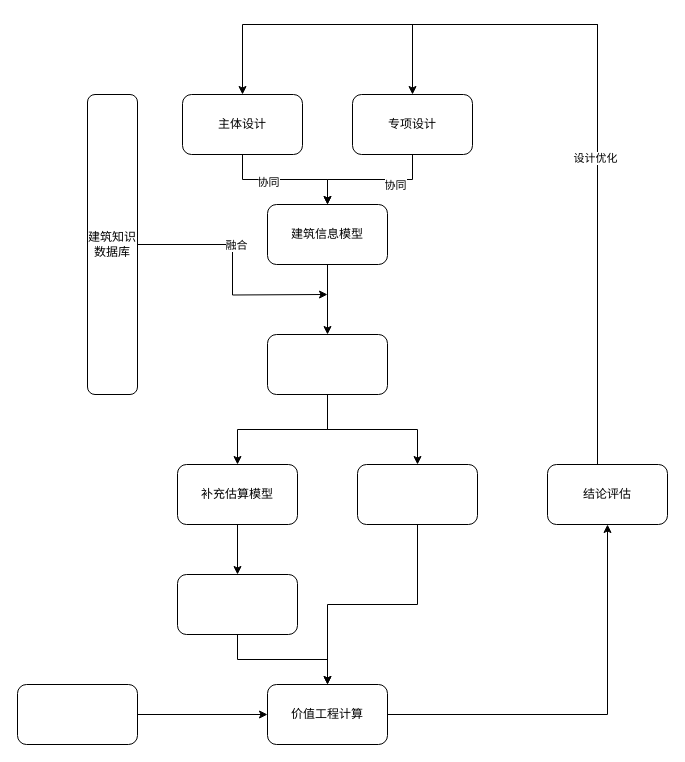
The diagram is 685 pixels wide and 762 high, and some of its shapes have lost their labels. Here are the shapes that lost their labels. From the top down, the box of each, then its label:
(266, 334, 388, 394): 基于多表分类后的信息模型
(356, 464, 478, 524): 建筑面积计算
(176, 574, 298, 634): 工程造价计算
(16, 684, 138, 744): 空间价值权重体系
